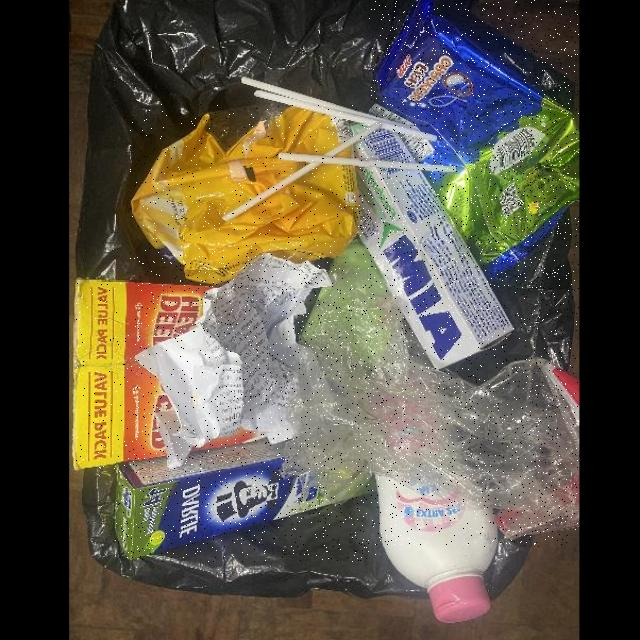paper: (135, 254, 336, 468), (352, 124, 513, 373), (116, 437, 379, 562), (74, 281, 213, 470)
plastic: (282, 244, 579, 547)
wrapper: (370, 0, 579, 284), (131, 104, 359, 285)
